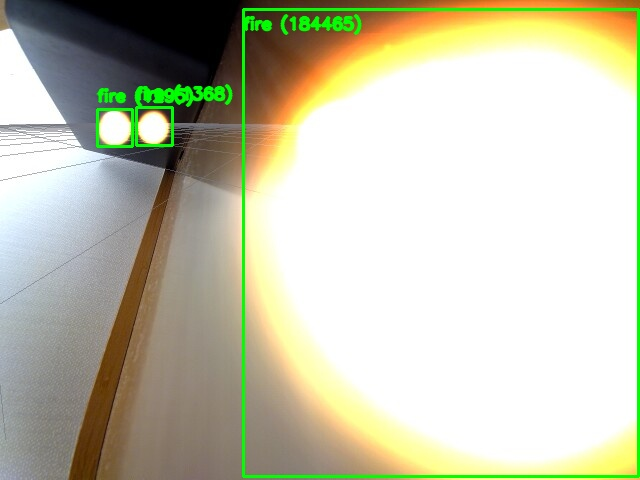fire: (243, 9, 638, 476), (136, 107, 172, 145), (97, 109, 132, 146)
